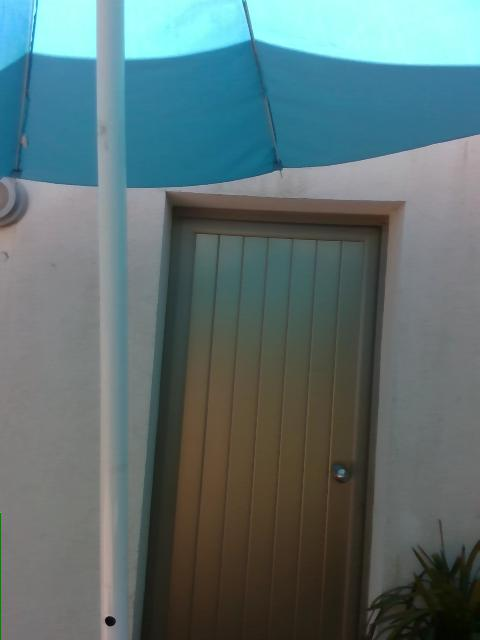door: (135, 189, 409, 639)
